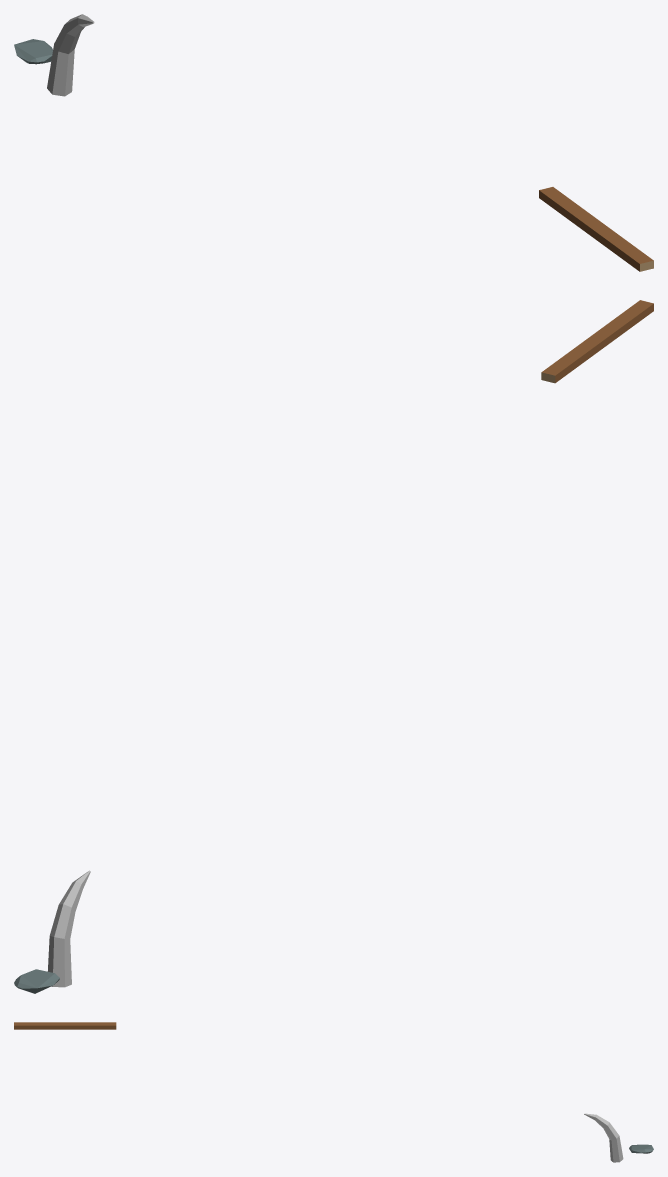
3 views of the same model, one above another, from view 1: azimuth 30°, elevation 25°; view 2: azimuth 150°, elevation 25°; view 3: azimuth 270°, elevation 25° (orthographic). The views are drawn at different scales.
Visible parts, largest first — view 1: Box15734_brown_0, Line1333_grey_0, Box884_rock_0; view 2: Line1333_grey_0, Box15734_brown_0; view 3: Box15734_brown_0, Line1333_grey_0.
Part boxes in pixels (x1,y1,x2,y2): Box15734_brown_0: [539, 187, 653, 271]; Line1333_grey_0: [47, 14, 94, 96]; Box884_rock_0: [14, 39, 52, 64]; Line1333_grey_0: [47, 870, 90, 987]; Box15734_brown_0: [542, 300, 653, 382]; Box15734_brown_0: [14, 1022, 116, 1029]; Line1333_grey_0: [584, 1113, 623, 1162].
Bounding box in the file's own units: 125 × 920 × 3956.
